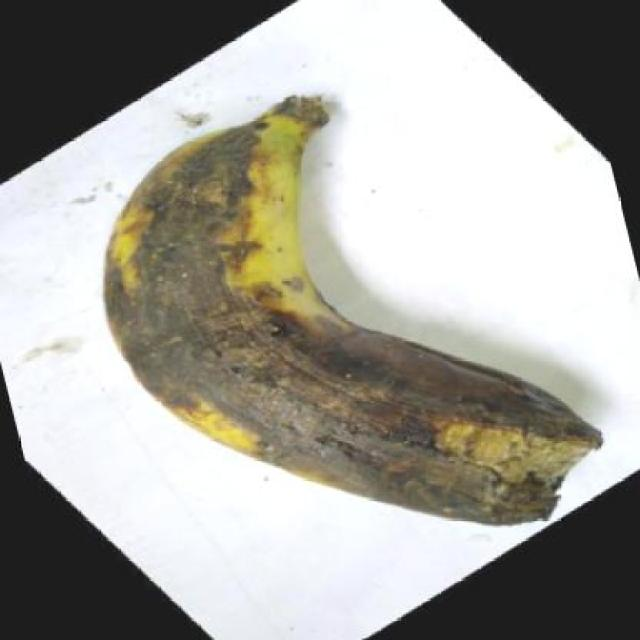Rotten: (87, 72, 630, 577)
